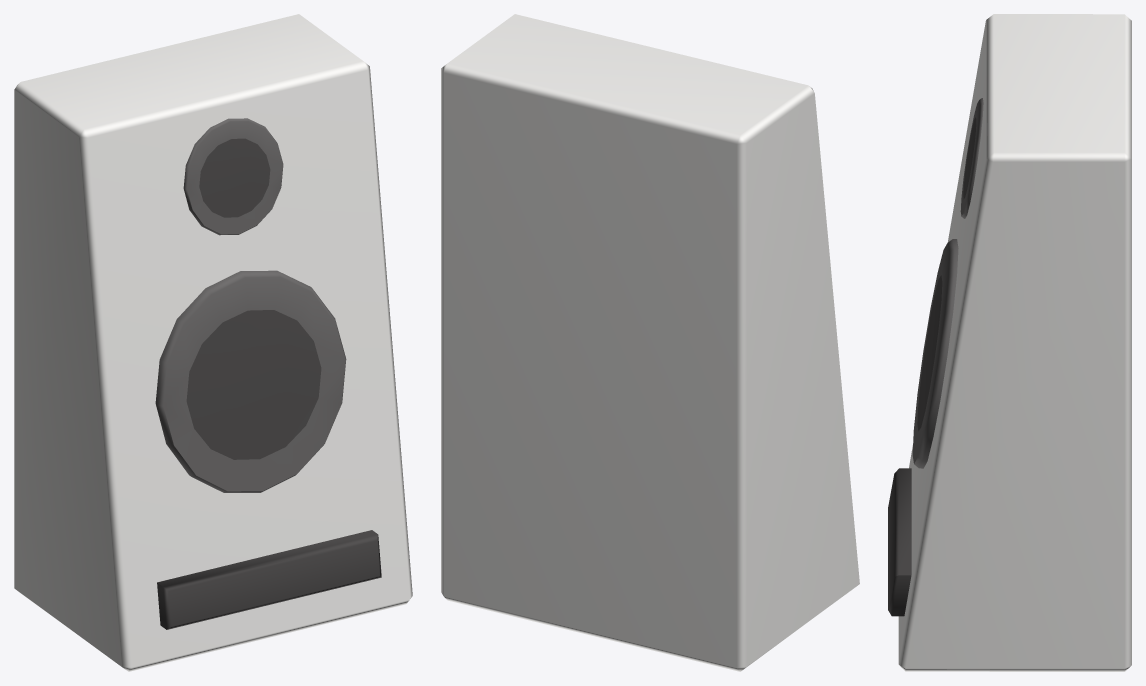
Rendered from Speaker_1.glb.
3 views of the same model, side by side, from view 1: azimuth 30°, elevation 25°; view 2: azimuth 150°, elevation 25°; view 3: azimuth 270°, elevation 25° (orthographic). The views are drawn at different scales.
Visible parts, largest first — view 1: Speaker_1; view 2: Speaker_1; view 3: Speaker_1.
Boxes of the visible parts, x1,y1,x2,y2 form: Speaker_1: [14, 14, 412, 671]; Speaker_1: [441, 14, 859, 671]; Speaker_1: [888, 14, 1131, 671].
Bounding box in the file's own units: 0.125 × 0.2097 × 0.0892.
1 material, 1 textured.
